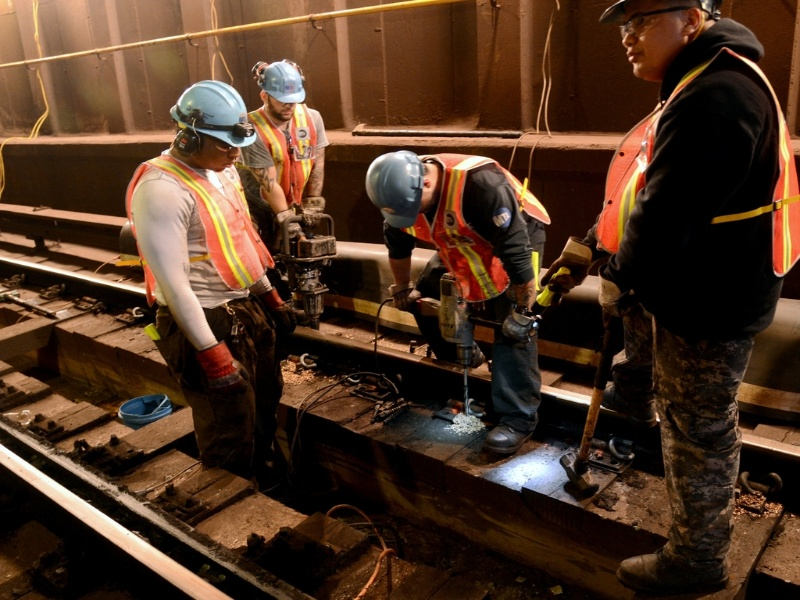helmet: (165, 80, 258, 146), (365, 151, 422, 208), (261, 60, 310, 106)
jacket: (176, 164, 268, 293), (428, 206, 510, 304), (603, 103, 650, 254), (257, 114, 321, 210)
